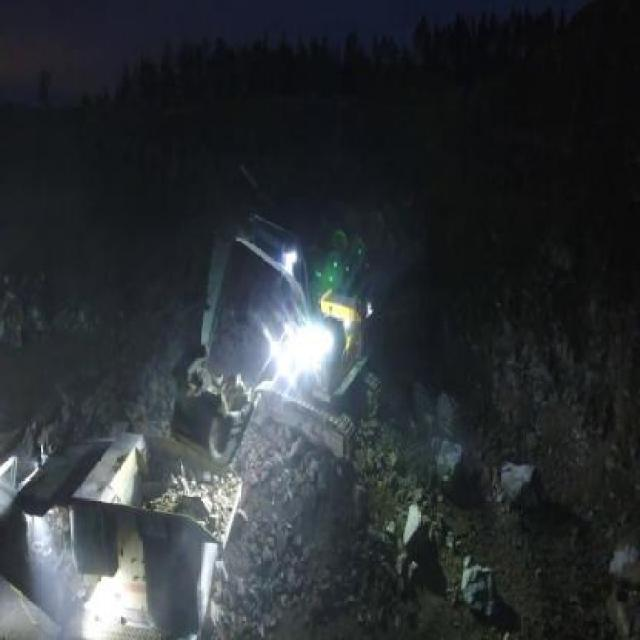Excavator: (172, 155, 380, 457)
